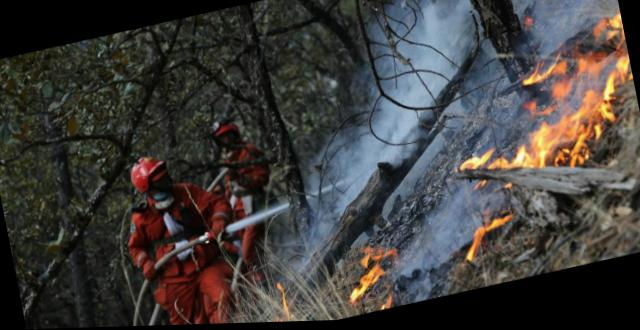fire: (437, 17, 639, 260), (337, 237, 402, 313)
